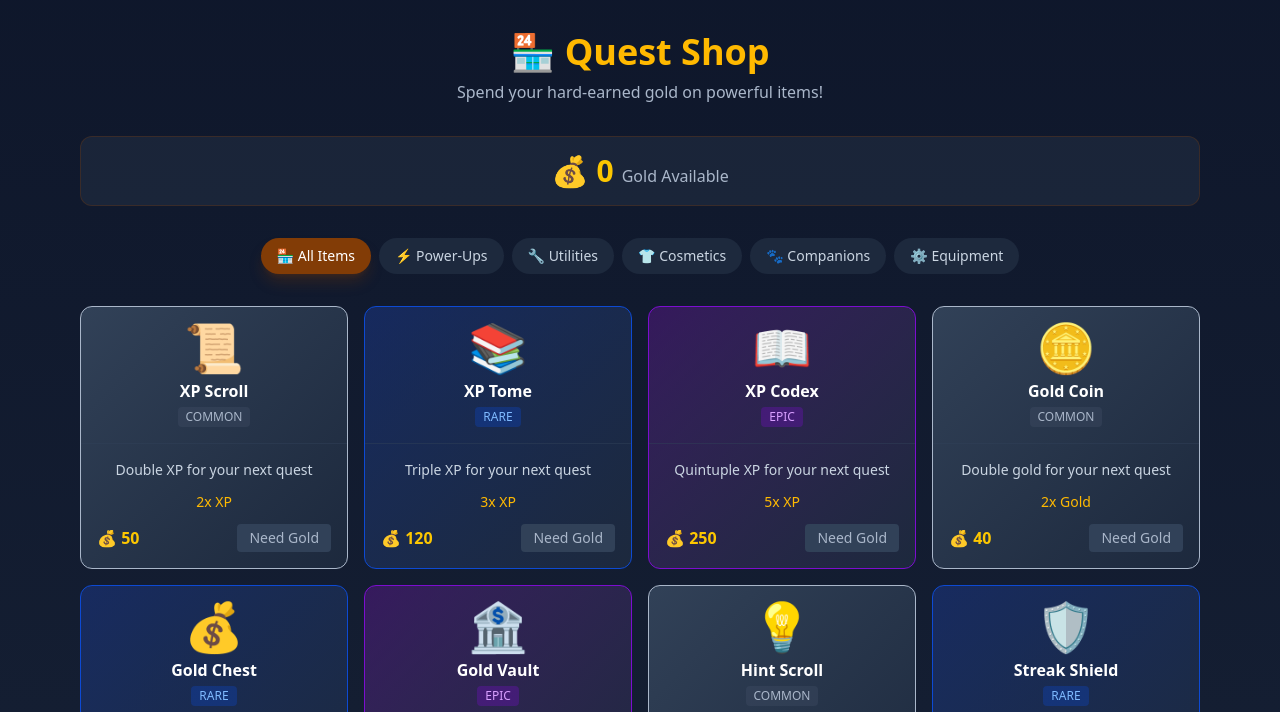
Scenario: StorePage › narrows the catalogue when a category filter is picked
Click the button "🐾 Companions": [818, 256] box [750, 238, 886, 274]
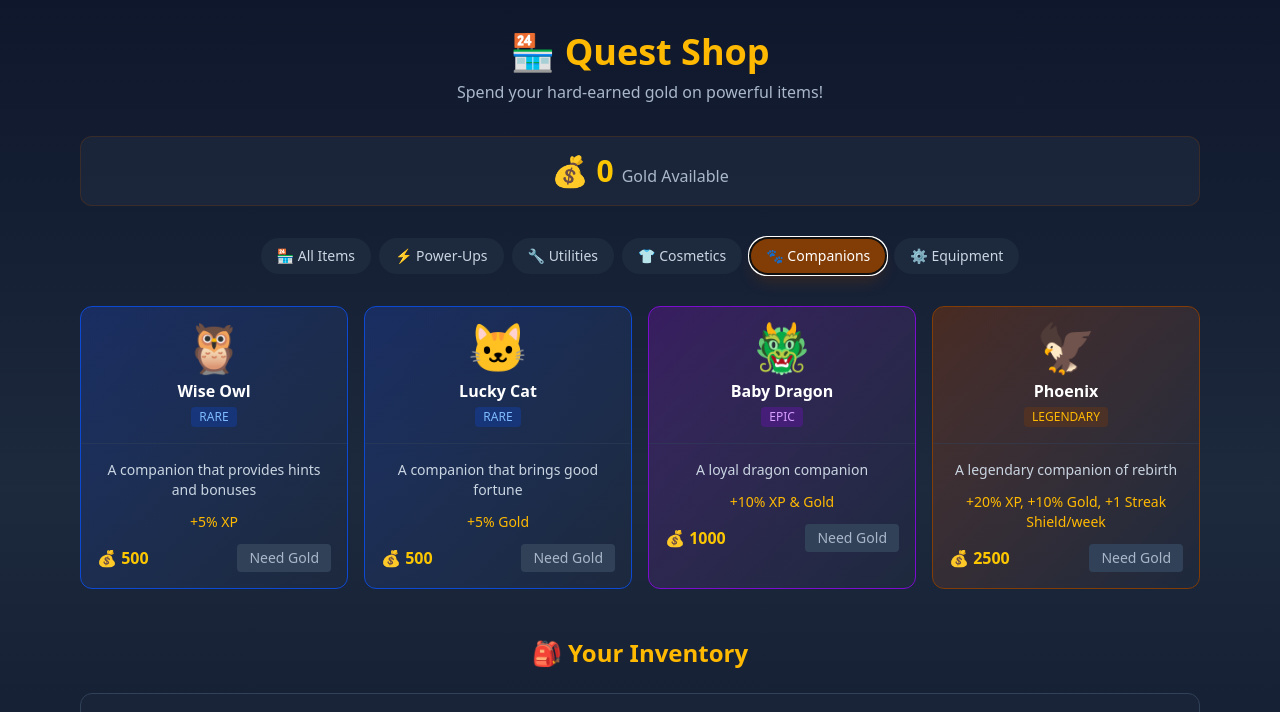
expect the heading "Wise Owl" is shown: met, box [177, 380, 251, 402]
expect the heading "XP Scroll" is gone: met
Click the button "⚡ Power-Ups": [441, 256] box [379, 238, 504, 274]
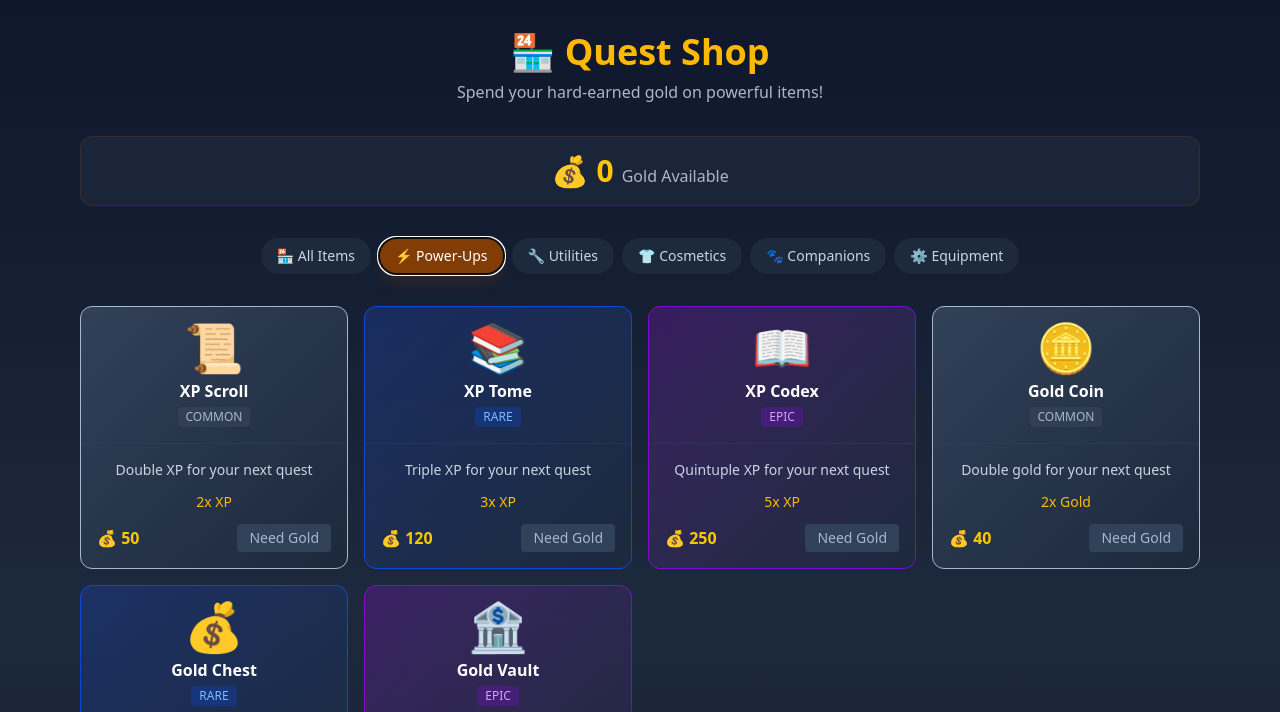
expect the heading "XP Scroll" is shown: met, box [180, 380, 248, 402]
expect the heading "Wise Owl" is gone: met
